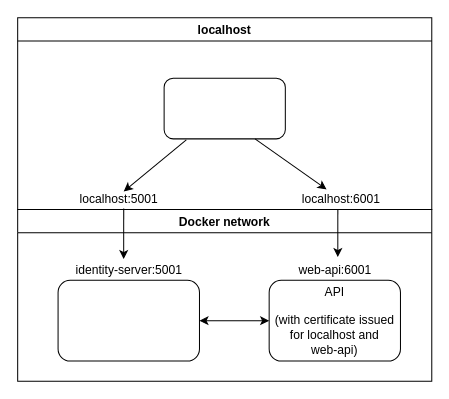
This 449x399 diagram has some shape labels left out. The shapes that lost their labels are listed below. From the top down, each one's centre as x and y in pixels, then its label:
At point 224,108: "Client".
At point 128,320: "IdentityServer4 (with certificate issued for localhost and identity-server)".
